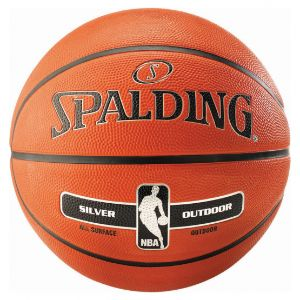baloncesto: (10, 8, 290, 292)
